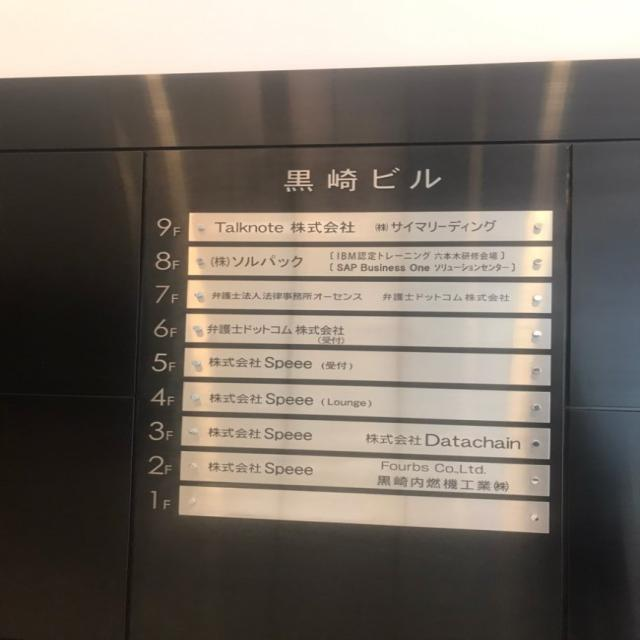building: (278, 164, 447, 195)
facility: (359, 427, 528, 456), (322, 249, 521, 273), (206, 388, 379, 415), (205, 317, 353, 346), (205, 352, 358, 374), (212, 216, 361, 238), (373, 473, 513, 496), (200, 456, 318, 482), (203, 422, 319, 447), (208, 286, 365, 303), (370, 217, 502, 237), (378, 287, 514, 306), (375, 459, 495, 477), (206, 252, 310, 270)
floor: (140, 416, 180, 446), (148, 280, 184, 309), (151, 213, 185, 243), (149, 247, 184, 276), (140, 452, 176, 480), (140, 486, 176, 514), (148, 313, 181, 343), (148, 348, 180, 377), (146, 382, 179, 410)
